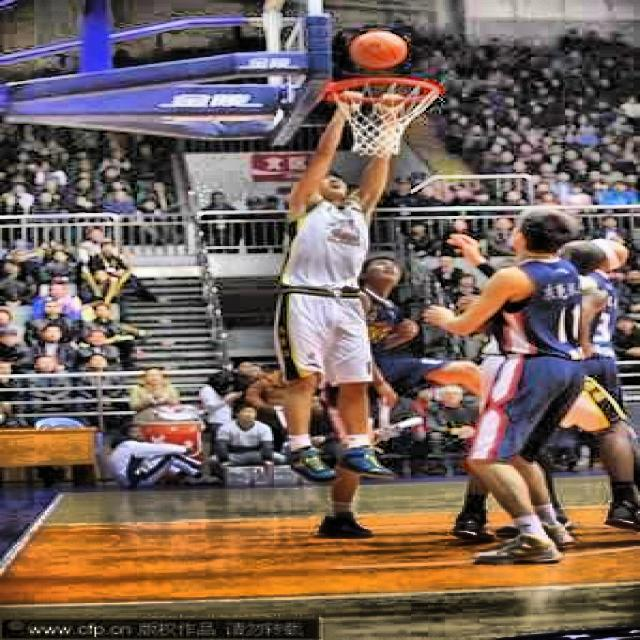rim: (330, 78, 441, 157), (351, 31, 407, 70)
